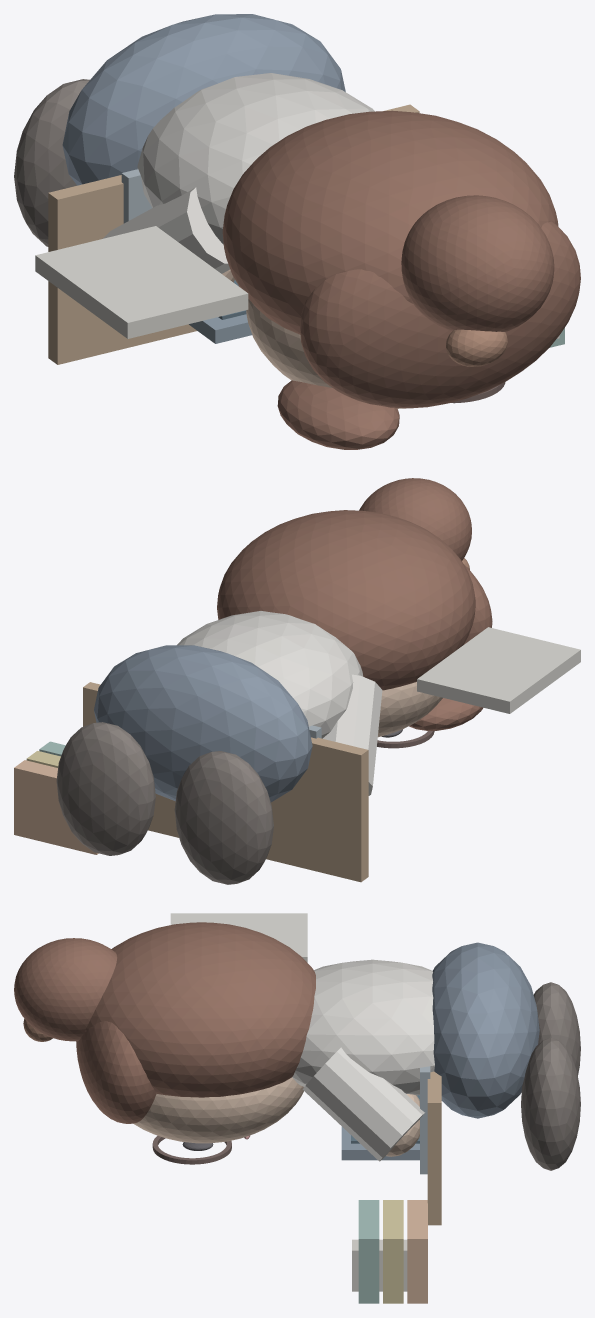
The model's file is admin-assistant-3d.glb.
The picture shows the model from 3 angles, top to bottom: view 1: azimuth 30°, elevation 25°; view 2: azimuth 150°, elevation 25°; view 3: azimuth 270°, elevation 25°; orthographic projection. The views are drawn at different scales.
Parts seen in each view (by area): view 1: hair_back, hair_cap, skirt, torso, bun, checklist_board, desk_top, shoe_left, side_fringe, sleeve_left, face, bun_highlight (+2 smaller); view 2: hair_back, skirt, desk_top, shoe_left, shoe_right, torso, checklist_board, bun, folder_0, sleeve_left, face, side_fringe (+1 smaller); view 3: hair_back, skirt, torso, bun, sleeve_right, face, shoe_right, hair_cap, checklist_board, shoe_left, folder_2, desk_top (+6 smaller).
Part boxes in pixels (x1,y1,x2,y2): hair_back: (222, 110, 558, 334); hair_cap: (300, 221, 580, 408); skirt: (62, 14, 345, 185); torso: (137, 73, 374, 244); bun: (401, 195, 554, 331); checklist_board: (35, 226, 248, 338); desk_top: (48, 104, 419, 364); shoe_left: (14, 79, 89, 246); side_fringe: (277, 380, 399, 449); sleeve_left: (102, 187, 229, 273); face: (246, 299, 405, 408); bun_highlight: (446, 329, 507, 366); hair_back: (217, 510, 475, 690); skirt: (94, 645, 312, 802); desk_top: (83, 682, 368, 882); shoe_left: (174, 751, 273, 884); shoe_right: (56, 722, 155, 855); torso: (177, 611, 363, 738); checklist_board: (417, 627, 580, 713); bun: (359, 478, 471, 560); folder_0: (14, 760, 98, 854); sleeve_left: (323, 674, 382, 795); face: (378, 682, 442, 737); side_fringe: (409, 698, 483, 730); hair_back: (85, 922, 315, 1097); skirt: (432, 942, 539, 1118); torso: (292, 959, 434, 1095); bun: (14, 938, 117, 1041); sleeve_right: (302, 1047, 424, 1161); face: (133, 1077, 303, 1143); shoe_right: (521, 1038, 580, 1170); hair_cap: (76, 1021, 156, 1123); checklist_board: (170, 913, 307, 962); shoe_left: (533, 982, 580, 1075); folder_2: (358, 1200, 379, 1303); desk_top: (427, 1071, 441, 1225).
Bounding box in the file's own units: 2.57 × 1.55 × 3.02.
